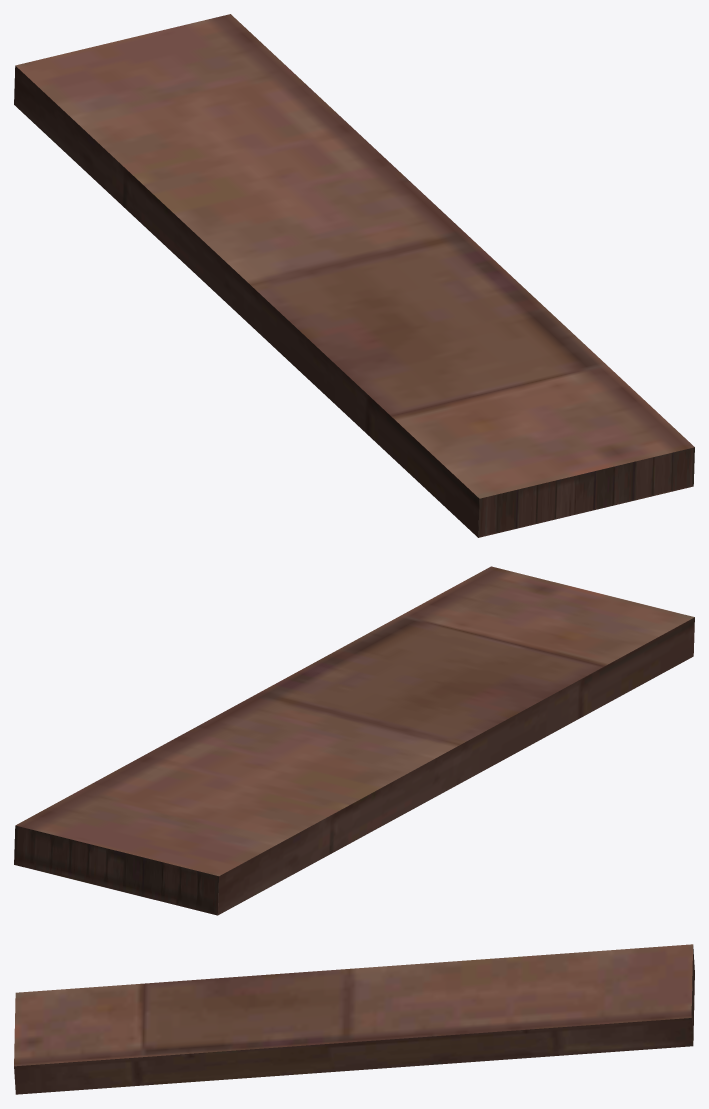
Rendered from woodBlock2 (33).fbx.
The picture shows the model from 3 angles, top to bottom: view 1: azimuth 30°, elevation 25°; view 2: azimuth 150°, elevation 25°; view 3: azimuth 270°, elevation 25°; orthographic projection. The views are drawn at different scales.
Parts seen in each view (by area): view 1: woodBlock2 (33); view 2: woodBlock2 (33); view 3: woodBlock2 (33).
Part boxes in pixels (x1,y1,x2,y2): woodBlock2 (33): (14,14,694,537); woodBlock2 (33): (14,566,694,915); woodBlock2 (33): (14,944,694,1094).
Size of the model in its own units: 19.68 by 9.53 by 71.28.
